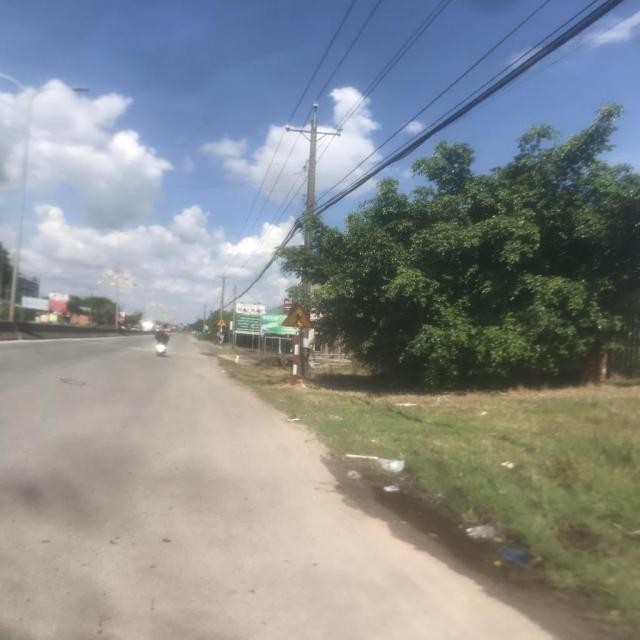chu_y_nguoi_di_bo_cat_ngang: (280, 304, 317, 330)
giao_nhau_voi_duong_khong_uu_tien: (216, 318, 227, 326)
